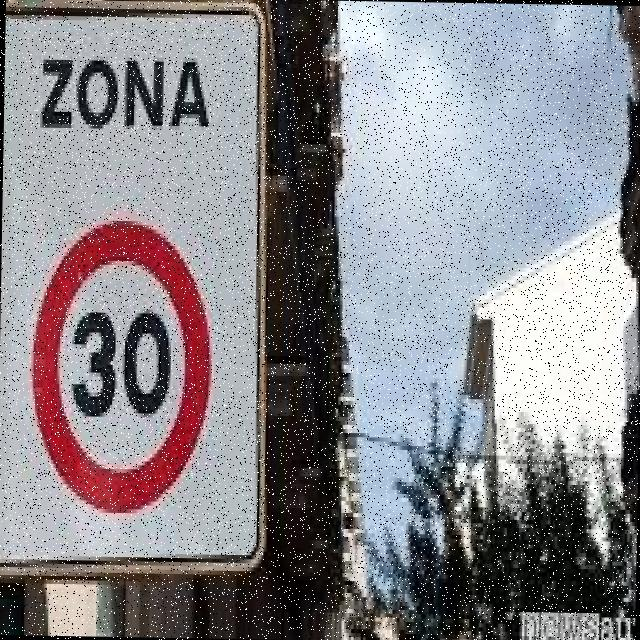speed_limit_30: (22, 218, 225, 522)
